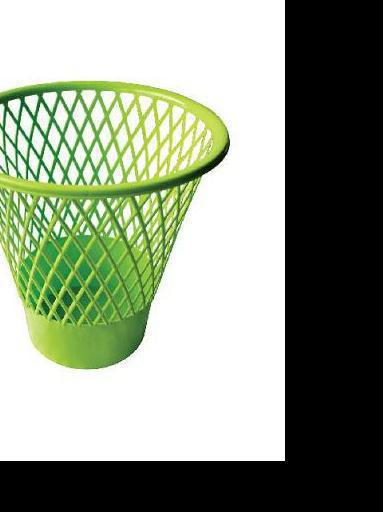Bote de Basura: (0, 83, 231, 370)
